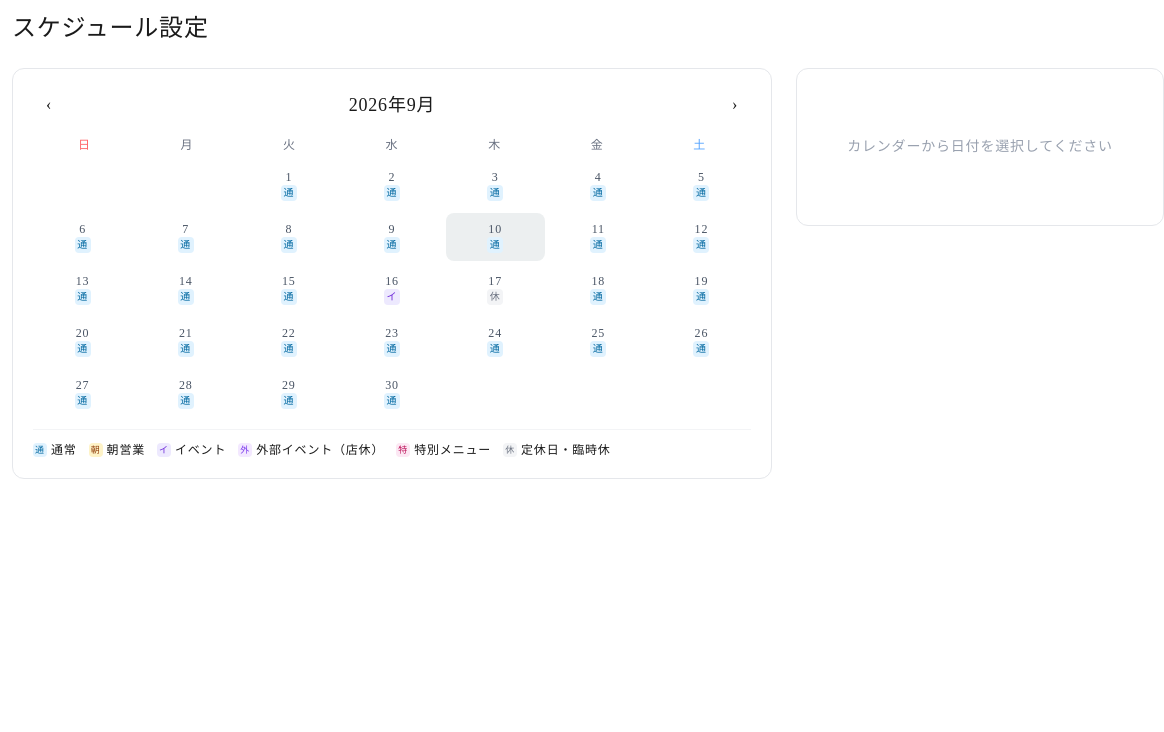
Test: ScheduleCalendar › イベントでイベント名が空なら保存せずエラーを表示する
The width and height of the screenshot is (1164, 732).
Click the button "15 通" at (289, 289), box [239, 265, 338, 313]
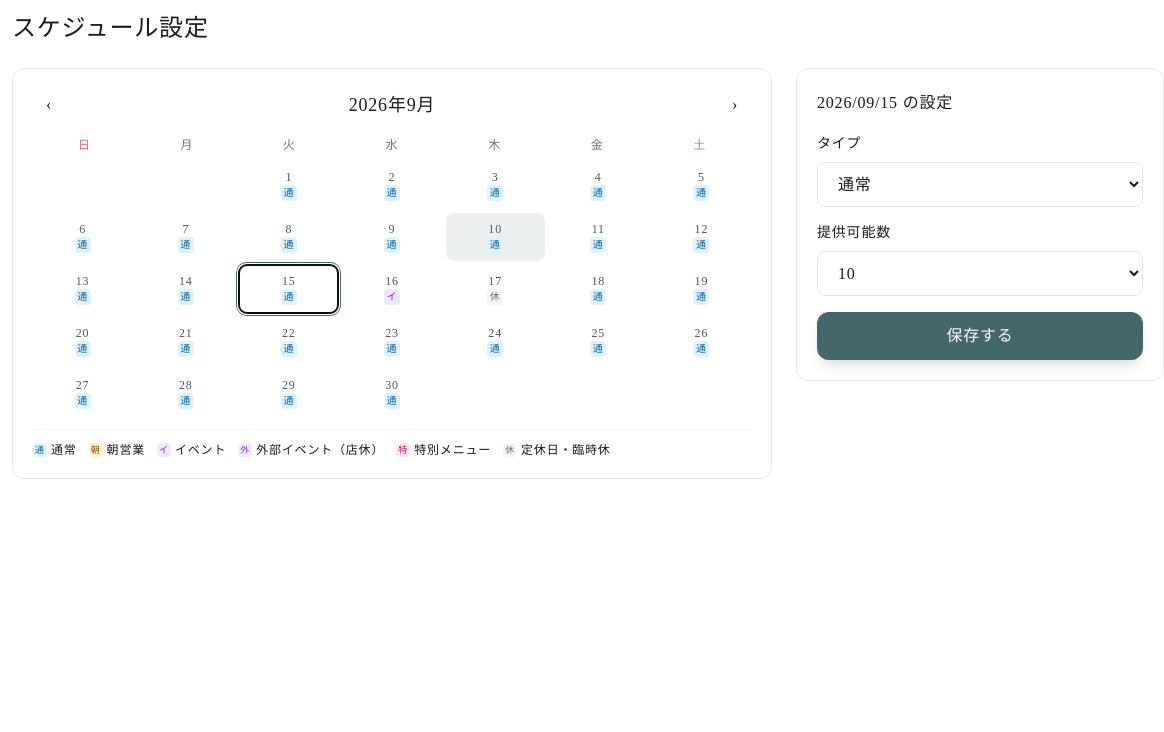
Select "イベント" in the dropdown showing "通常" below "タイプ" at (980, 184), box [817, 162, 1143, 207]
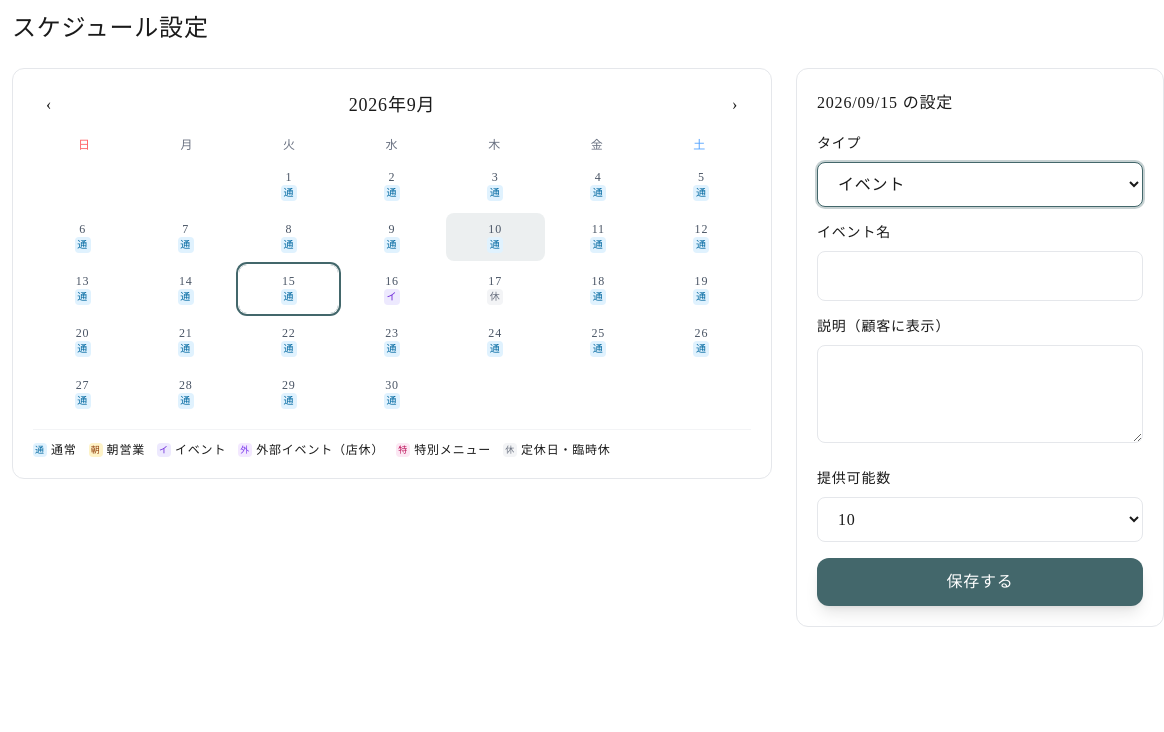
Click the button "保存する" at (980, 582), box [817, 558, 1143, 606]
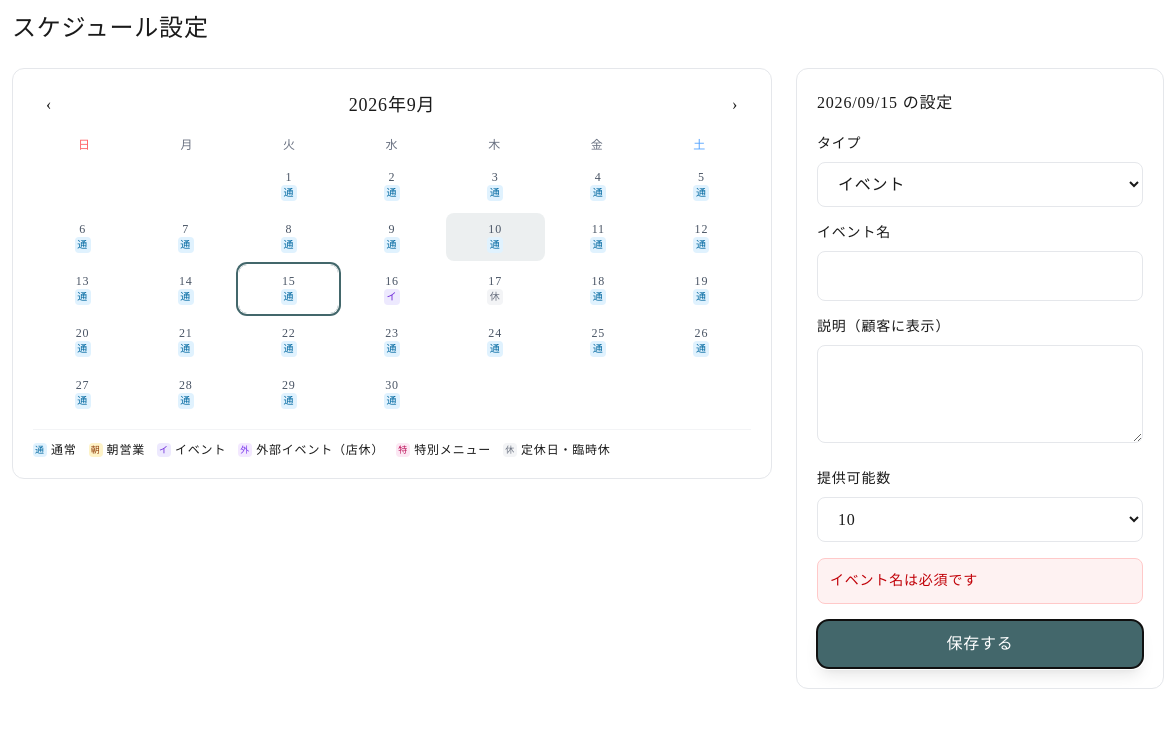
Expected: the message reads "イベント名は必須です", [830, 573, 978, 588]
